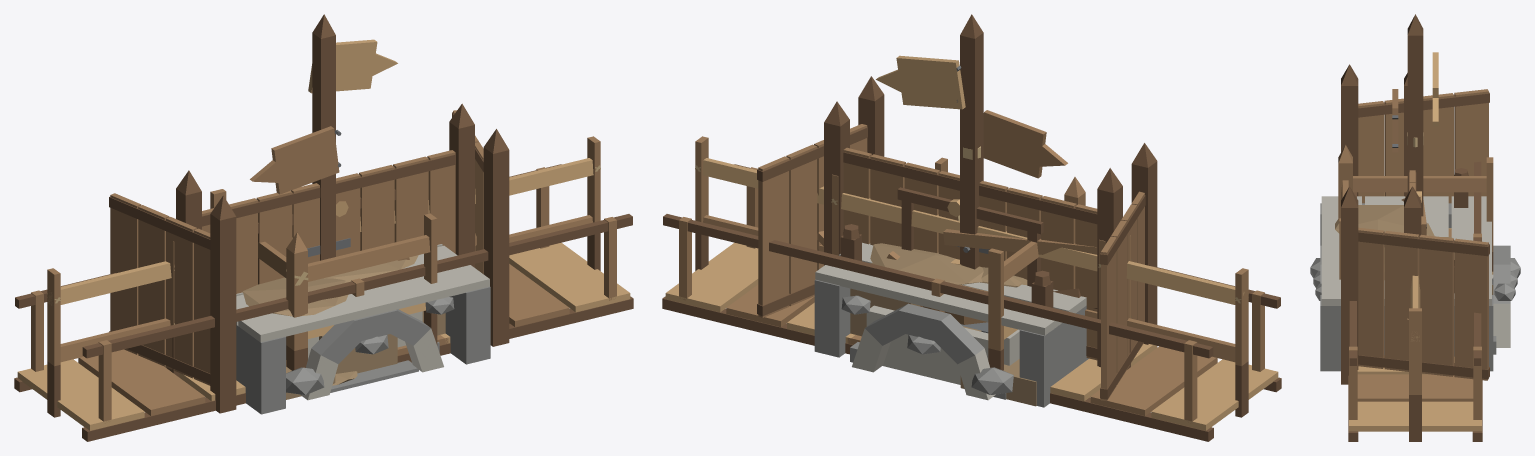
The model's file is caminos_rurales.glb.
3 views of the same model, side by side, from view 1: azimuth 30°, elevation 25°; view 2: azimuth 150°, elevation 25°; view 3: azimuth 270°, elevation 25° (orthographic). The views are drawn at different scales.
Parts seen in each view (by area): view 1: camino_puente_tablas_4m, camino_porton_abierto, camino_alcantarilla_piedra, camino_porton_cerrado, camino_letrero_doble, camino_cerca_4m, camino_cerca_esquina, camino_escalones_tierra; view 2: camino_puente_tablas_4m, camino_porton_abierto, camino_alcantarilla_piedra, camino_porton_cerrado, camino_letrero_doble, camino_cerca_4m, camino_escalones_tierra, camino_cerca_2m, camino_cerca_esquina, camino_abrevadero, camino_pila_madera, camino_cerca_rota (+2 smaller); view 3: camino_porton_abierto, camino_alcantarilla_piedra, camino_puente_tablas_4m, camino_letrero_doble, camino_cerca_esquina, camino_cerca_4m, camino_porton_cerrado, camino_escalones_tierra, camino_barrera_caida.
Boxes of the visible parts, box(x1,y1,x2,y2) form: camino_puente_tablas_4m: box(14, 164, 633, 441); camino_porton_abierto: box(109, 110, 509, 413); camino_alcantarilla_piedra: box(236, 244, 490, 414); camino_porton_cerrado: box(176, 103, 474, 293); camino_letrero_doble: box(250, 14, 397, 260); camino_cerca_4m: box(47, 136, 600, 417); camino_cerca_esquina: box(210, 189, 437, 370); camino_escalones_tierra: box(286, 248, 454, 399); camino_puente_tablas_4m: box(662, 164, 1281, 441); camino_porton_abierto: box(757, 76, 1157, 401); camino_alcantarilla_piedra: box(814, 242, 1088, 407); camino_porton_cerrado: box(824, 101, 1122, 366); camino_letrero_doble: box(876, 14, 1067, 269); camino_cerca_4m: box(695, 136, 1248, 417); camino_escalones_tierra: box(841, 288, 1036, 406); camino_cerca_2m: box(831, 174, 1105, 367); camino_cerca_esquina: box(935, 157, 1085, 370); camino_abrevadero: box(850, 305, 1019, 399); camino_pila_madera: box(897, 187, 1043, 333); camino_cerca_rota: box(817, 229, 1131, 369); camino_porton_abierto: box(1341, 64, 1489, 384); camino_alcantarilla_piedra: box(1320, 196, 1510, 371); camino_puente_tablas_4m: box(1348, 161, 1482, 441); camino_letrero_doble: box(1392, 14, 1438, 216); camino_cerca_esquina: box(1338, 145, 1493, 279); camino_cerca_4m: box(1409, 275, 1421, 441); camino_porton_cerrado: box(1404, 73, 1426, 236); camino_escalones_tierra: box(1310, 258, 1520, 300); camino_barrera_caida: box(1401, 168, 1468, 292).
Size of the model in its own units: 4 by 2.34 by 1.46.
